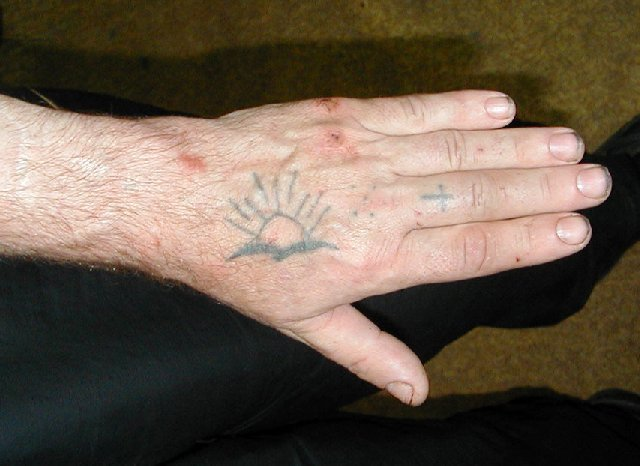tatu9_krest: (417, 185, 457, 208)
